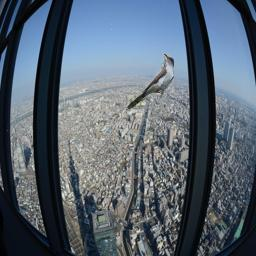Cuckoo: (127, 54, 174, 109)
